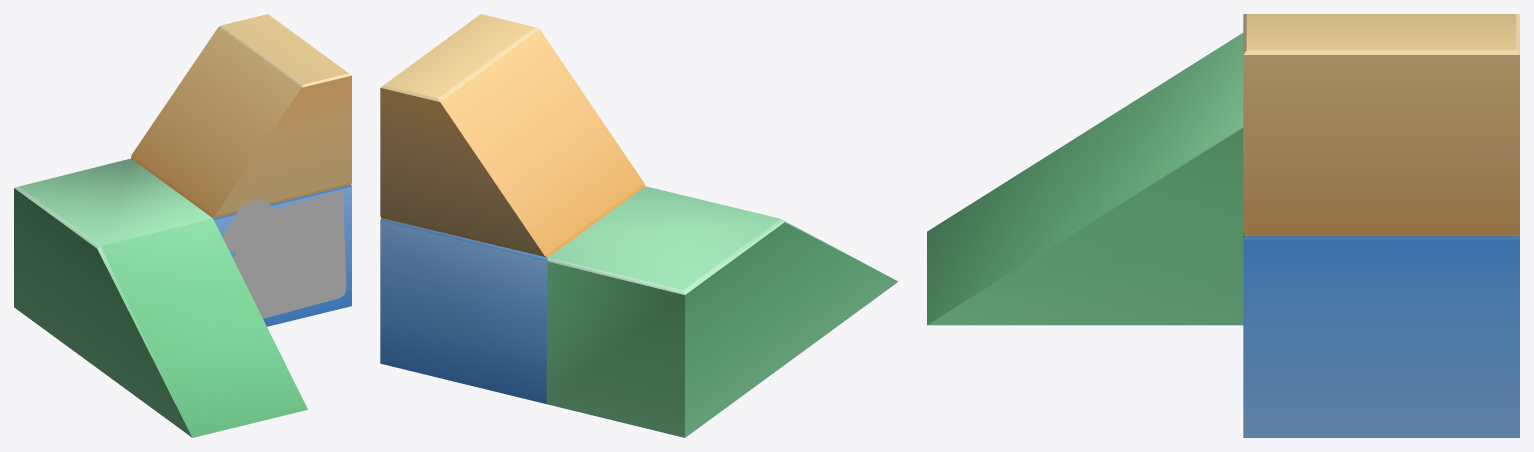
Rendered from stairs to ferris wheel.fbx.
The picture shows the model from 3 angles, left to right: view 1: azimuth 30°, elevation 25°; view 2: azimuth 150°, elevation 25°; view 3: azimuth 270°, elevation 25°; orthographic projection. The views are drawn at different scales.
Visible parts, largest first — view 1: stairs_to_ferris_wheel, height_sticker; view 2: stairs_to_ferris_wheel; view 3: stairs_to_ferris_wheel.
Boxes of the visible parts, x1,y1,x2,y2 form: stairs_to_ferris_wheel: [14, 14, 351, 437]; height_sticker: [223, 192, 346, 318]; stairs_to_ferris_wheel: [380, 14, 898, 437]; stairs_to_ferris_wheel: [927, 14, 1519, 437].
Size of the model in its own units: 168 by 146 by 204.
